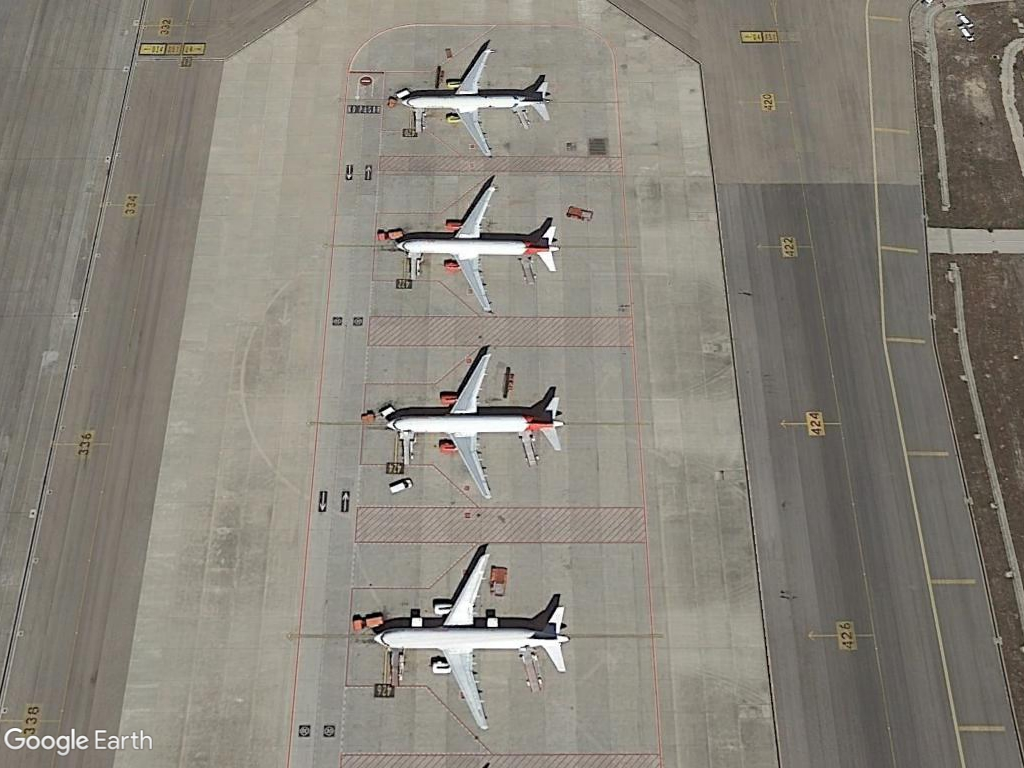airliner: (368, 545, 572, 737), (384, 347, 570, 504), (388, 179, 565, 316), (399, 43, 558, 160)
